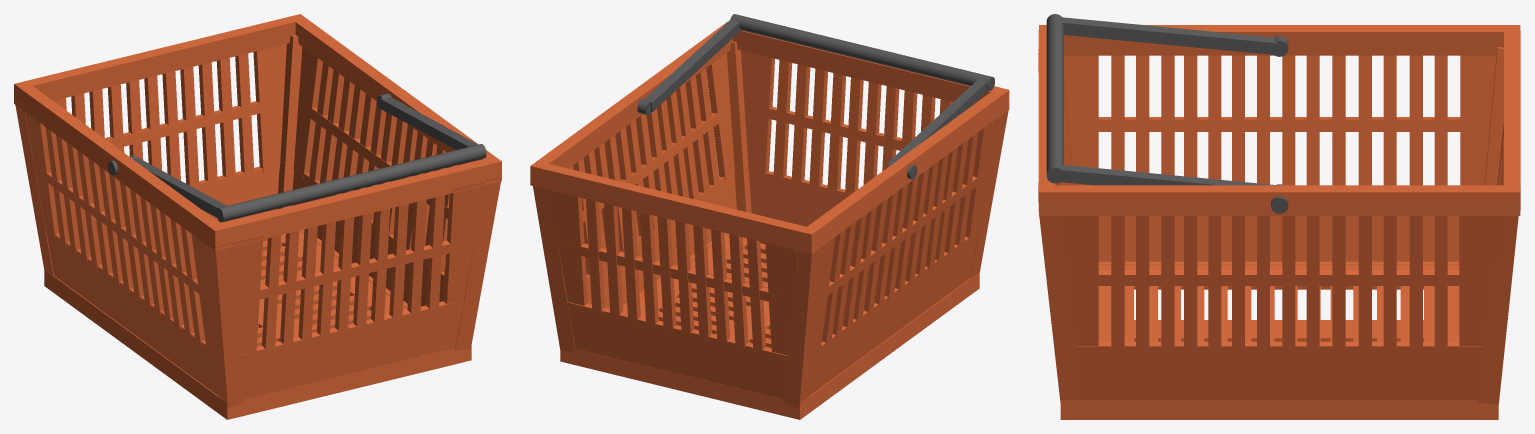
The model's file is shopping_basket_stackable.gltf.
The picture shows the model from 3 angles, left to right: view 1: azimuth 30°, elevation 25°; view 2: azimuth 150°, elevation 25°; view 3: azimuth 270°, elevation 25°; orthographic projection. The views are drawn at different scales.
Size of the model in its own units: 9.24 by 6.5 by 11.02.
